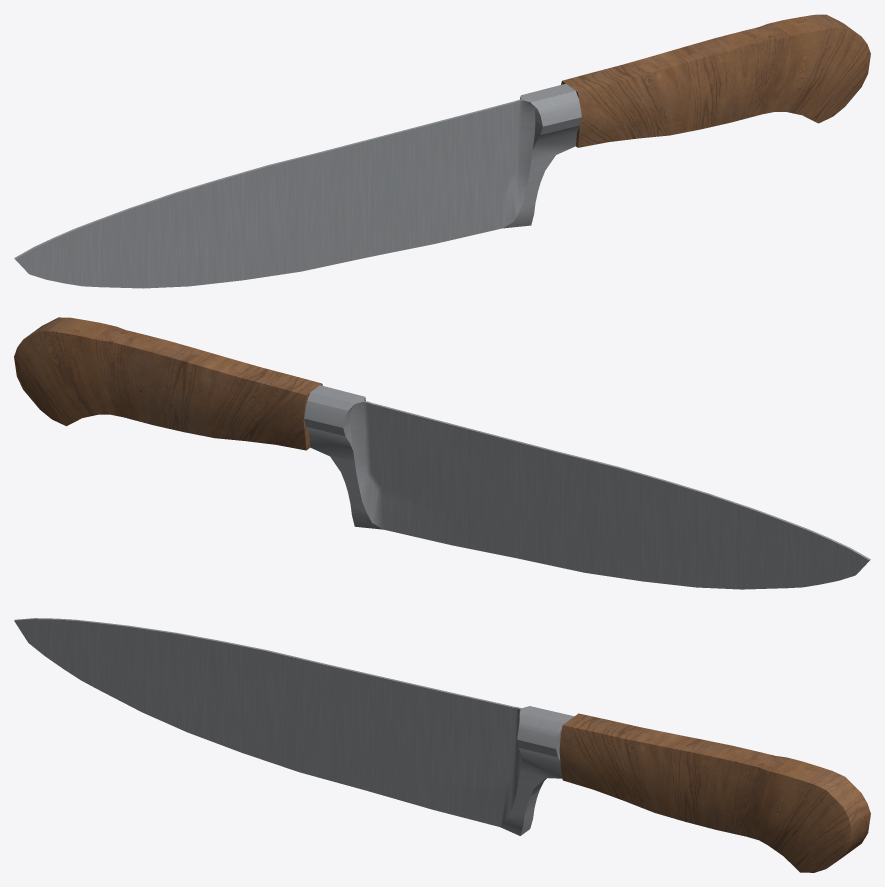
The model's file is knife.fbx.
3 views of the same model, one above another, from view 1: azimuth 30°, elevation 25°; view 2: azimuth 150°, elevation 25°; view 3: azimuth 330°, elevation 25° (orthographic).
Visible parts, largest first — view 1: polySurface2, polySurface3; view 2: polySurface2, polySurface3; view 3: polySurface2, polySurface3.
Part boxes in pixels (x1,y1,x2,y2): polySurface2: [14, 83, 581, 288]; polySurface3: [561, 14, 870, 147]; polySurface2: [304, 385, 870, 589]; polySurface3: [14, 317, 322, 450]; polySurface2: [14, 618, 573, 835]; polySurface3: [559, 713, 870, 872].
Bounding box in the file's own units: 56.64 × 8.27 × 2.99.
Materials: 1 (1 with a texture image).
